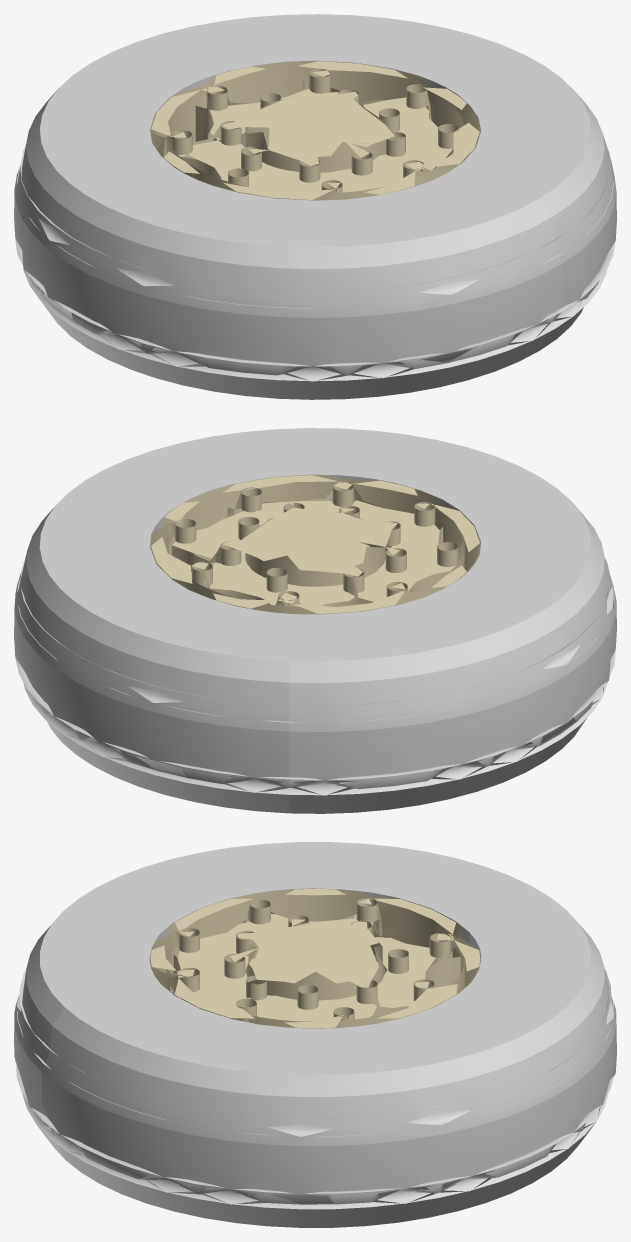
Rendered from front_left_wheel_visual.obj.
The picture shows the model from 3 angles, top to bottom: view 1: azimuth 30°, elevation 25°; view 2: azimuth 150°, elevation 25°; view 3: azimuth 270°, elevation 25°; orthographic projection.
Parts seen in each view (by area): view 1: front_left_wheel_visual; view 2: front_left_wheel_visual; view 3: front_left_wheel_visual.
Part boxes in pixels (x1,y1,x2,y2): front_left_wheel_visual: [14, 14, 616, 399]; front_left_wheel_visual: [14, 428, 616, 813]; front_left_wheel_visual: [14, 842, 616, 1227].
Size of the model in its own units: 0.2056 by 0.0655 by 0.2056.
